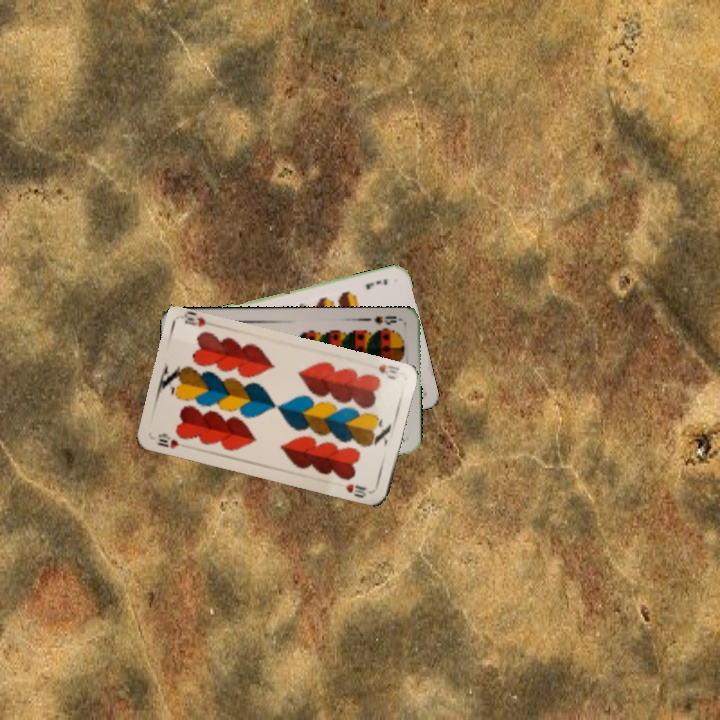E7: (362, 275, 390, 292)
H10: (374, 360, 402, 382), (154, 429, 182, 451)
S8: (370, 312, 405, 327)
